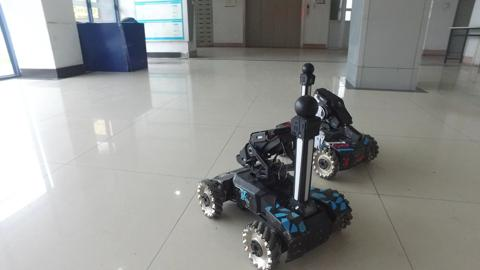chariot: (191, 91, 354, 270), (269, 59, 382, 182)
